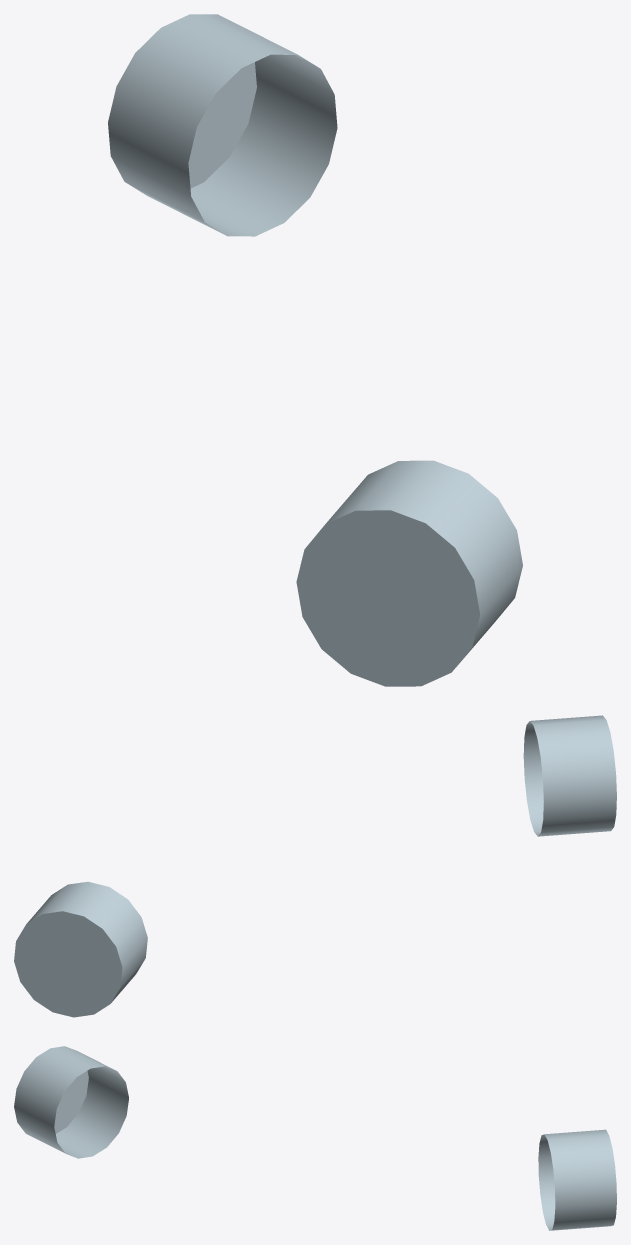
File: Pfen3DE45D4A9opp_138_Pfen3DE45D4A9opp_Mesh_1.obj
3 renders of one model, top to bottom at view 1: azimuth 30°, elevation 25°; view 2: azimuth 150°, elevation 25°; view 3: azimuth 270°, elevation 25°, orthographic. The views are drawn at different scales.
Visible parts, largest first — view 1: Mesh_Diffuse_11; view 2: Mesh_Diffuse_11; view 3: Mesh_Diffuse_11.
Boxes of the visible parts, x1,y1,x2,y2 form: Mesh_Diffuse_11: (108, 14, 522, 686); Mesh_Diffuse_11: (14, 715, 616, 1017); Mesh_Diffuse_11: (14, 1046, 616, 1230).
Size of the model in its own units: 0.1497 by 0.05 by 0.3082.
